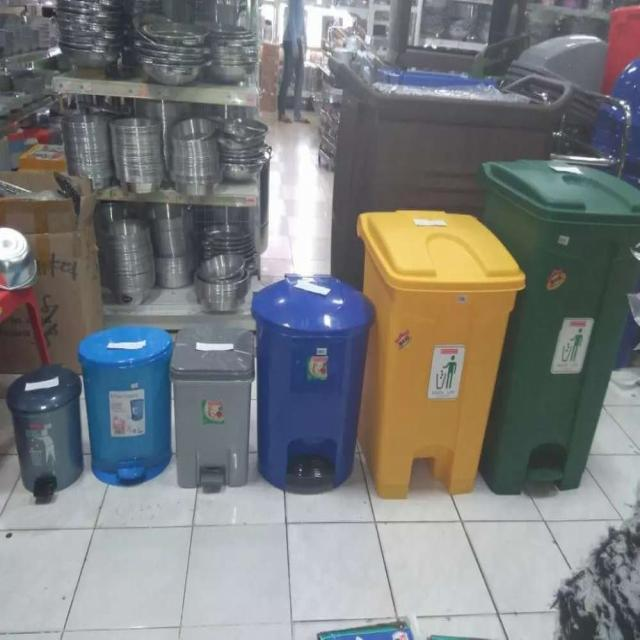Dumpster: (481, 150, 640, 504), (351, 206, 529, 502), (248, 274, 378, 498), (78, 322, 178, 486), (168, 320, 259, 496), (5, 364, 86, 502)
